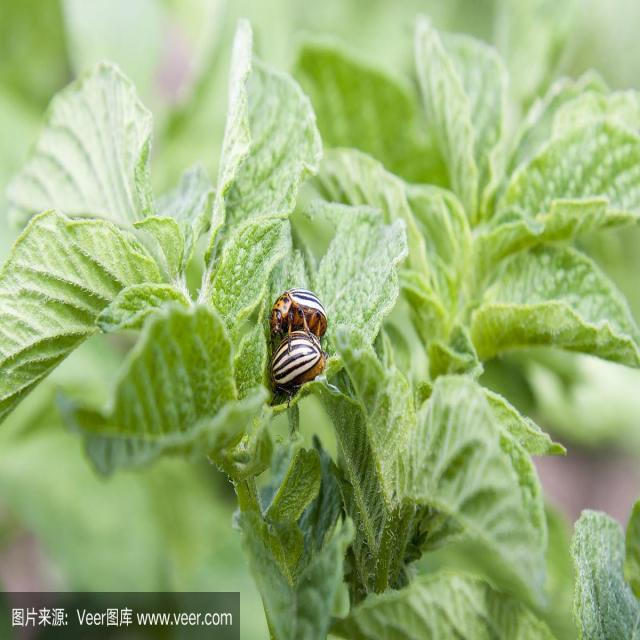ShuCaiHuaBanChong-Grown-: (266, 333, 335, 394), (270, 284, 332, 345)
